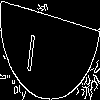I: (25, 25, 38, 73)
